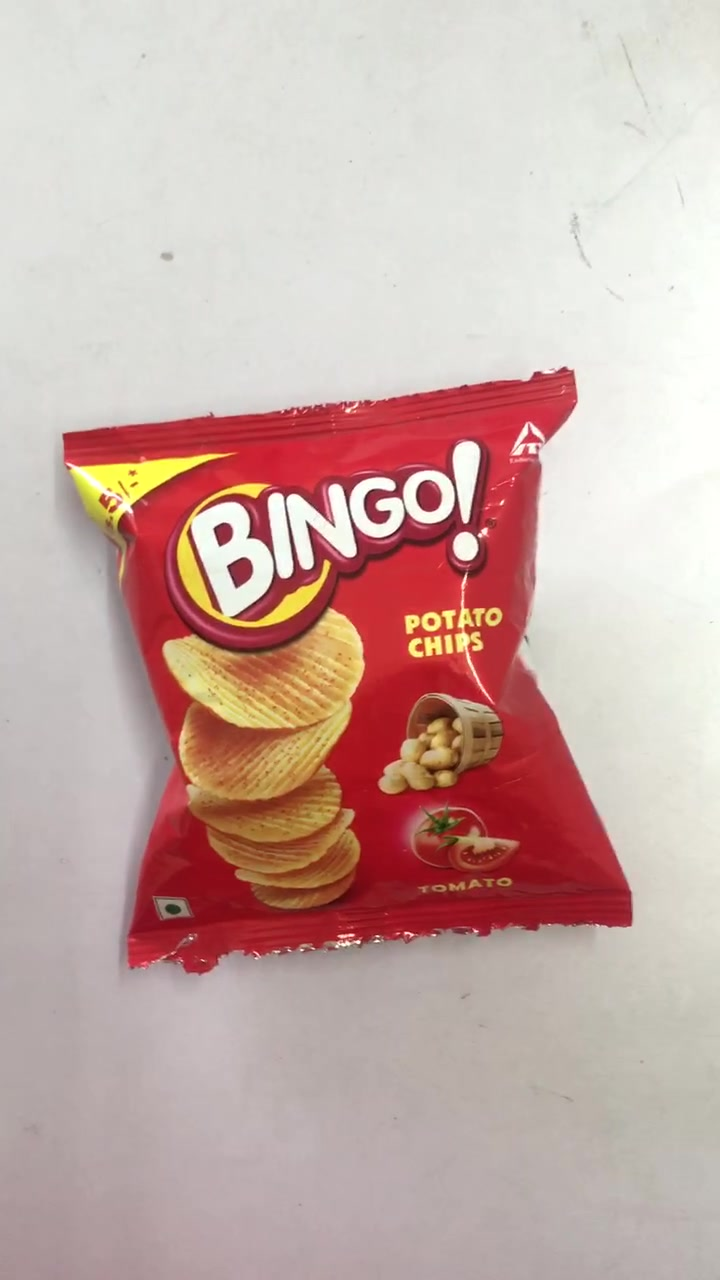Bingo: (74, 410, 637, 937)
